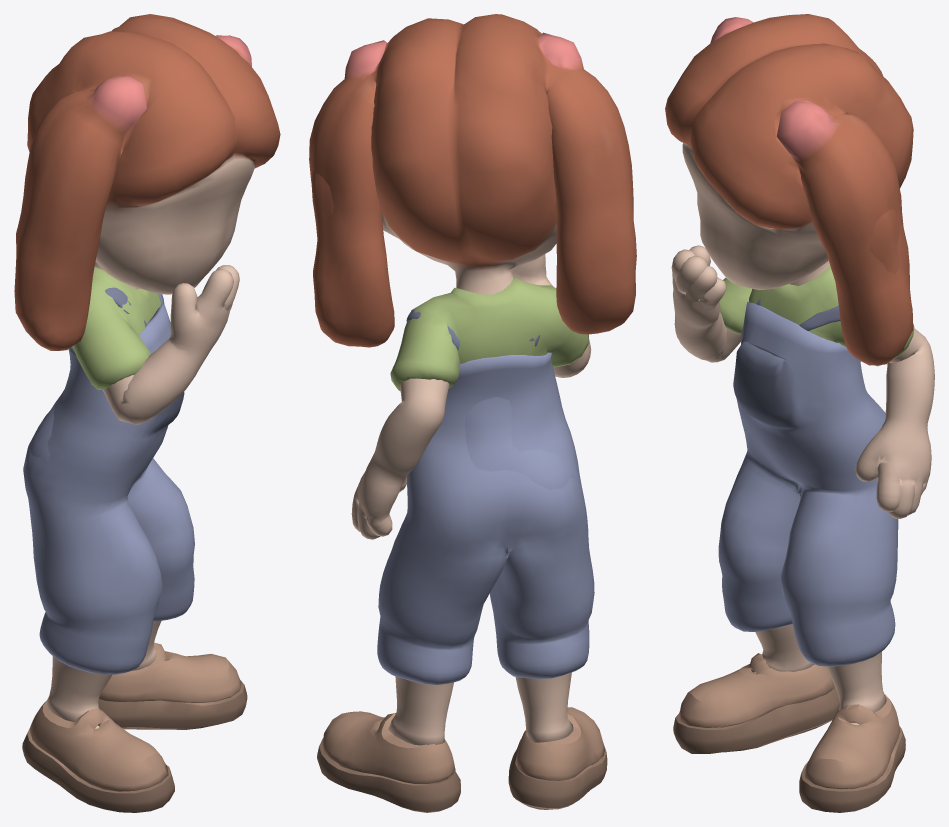
3 views of the same model, side by side, from view 1: azimuth 30°, elevation 25°; view 2: azimuth 150°, elevation 25°; view 3: azimuth 270°, elevation 25° (orthographic). The views are drawn at different scales.
Parts seen in each view (by area): view 1: Arms.021; view 2: Arms.021; view 3: Arms.021.
Boxes of the visible parts, <box> form: Arms.021: <box>14,14,280,812</box>; Arms.021: <box>309,14,636,812</box>; Arms.021: <box>665,14,934,812</box>.
Bounding box in the file's own units: 62.04 × 162 × 53.79.
